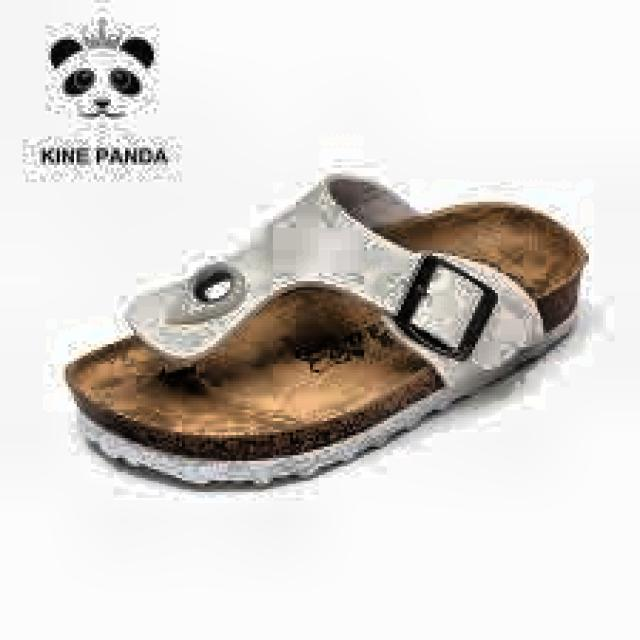shoes: (64, 167, 587, 488)
